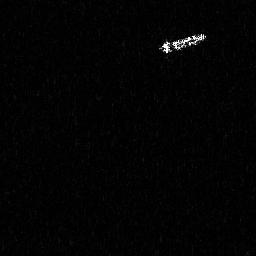ship: (157, 29, 207, 58)
